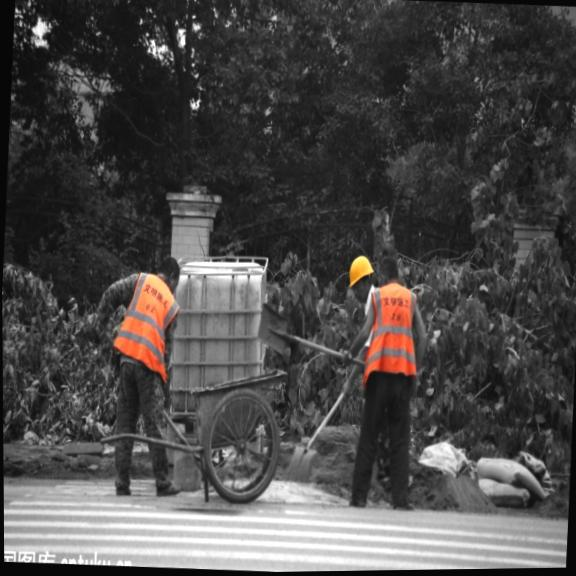safety_vest: (126, 272, 176, 371), (370, 280, 417, 373)
